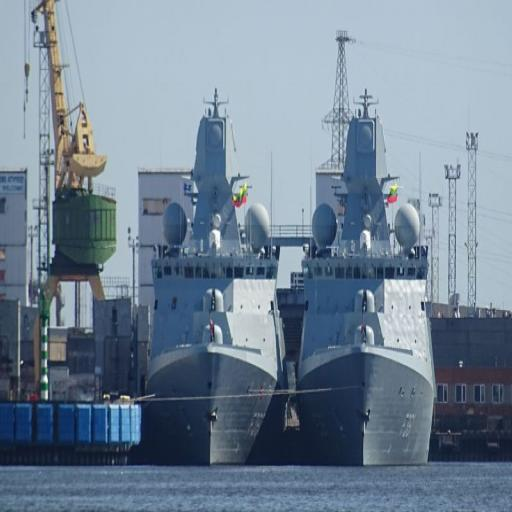Fragata: (135, 65, 289, 472), (294, 50, 439, 475)
